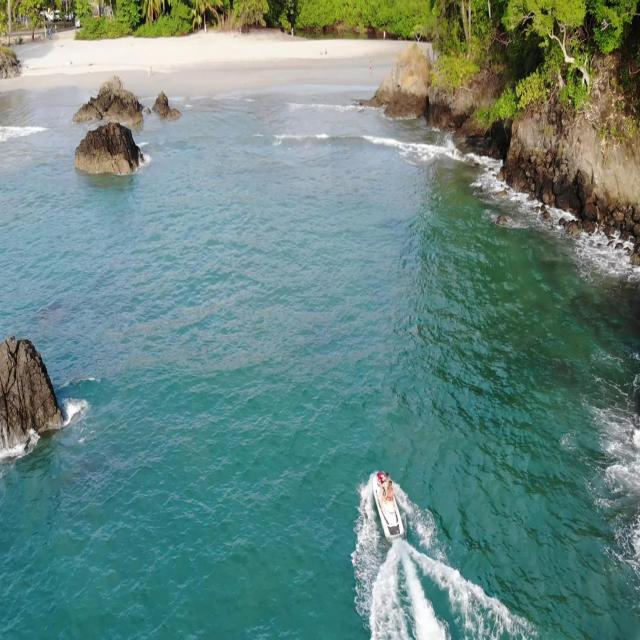boat: (372, 467, 406, 542)
